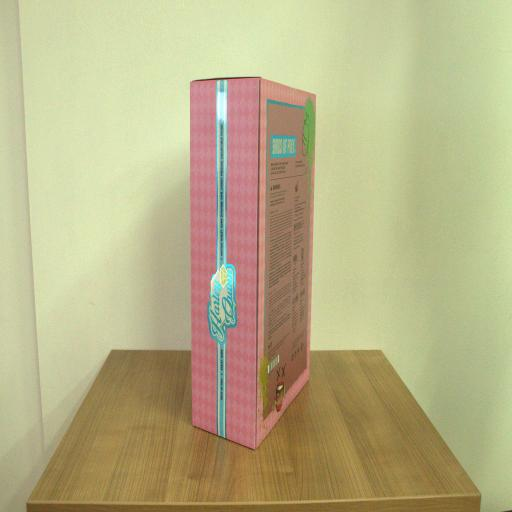Harley: (190, 77, 316, 448)
